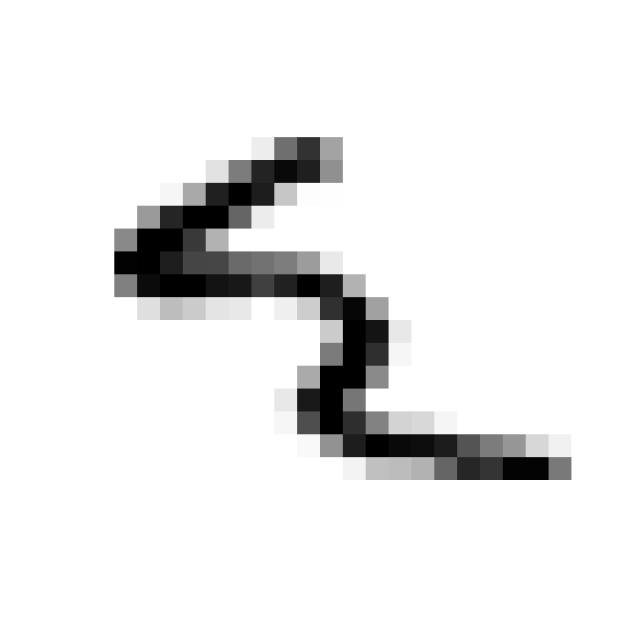4 -four-: (100, 117, 586, 501)
